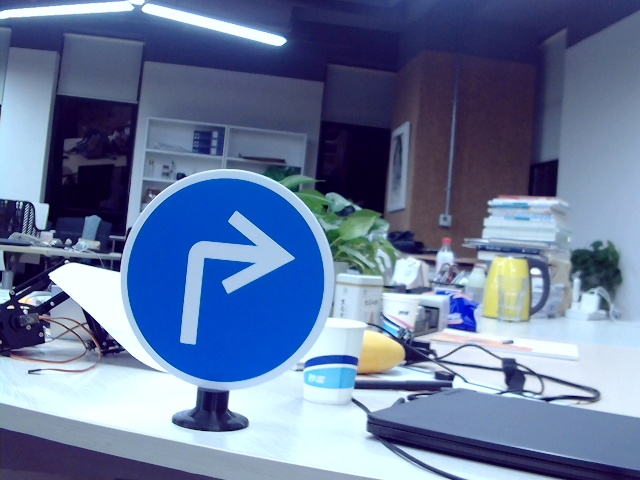turn_right: (175, 205, 292, 349)
